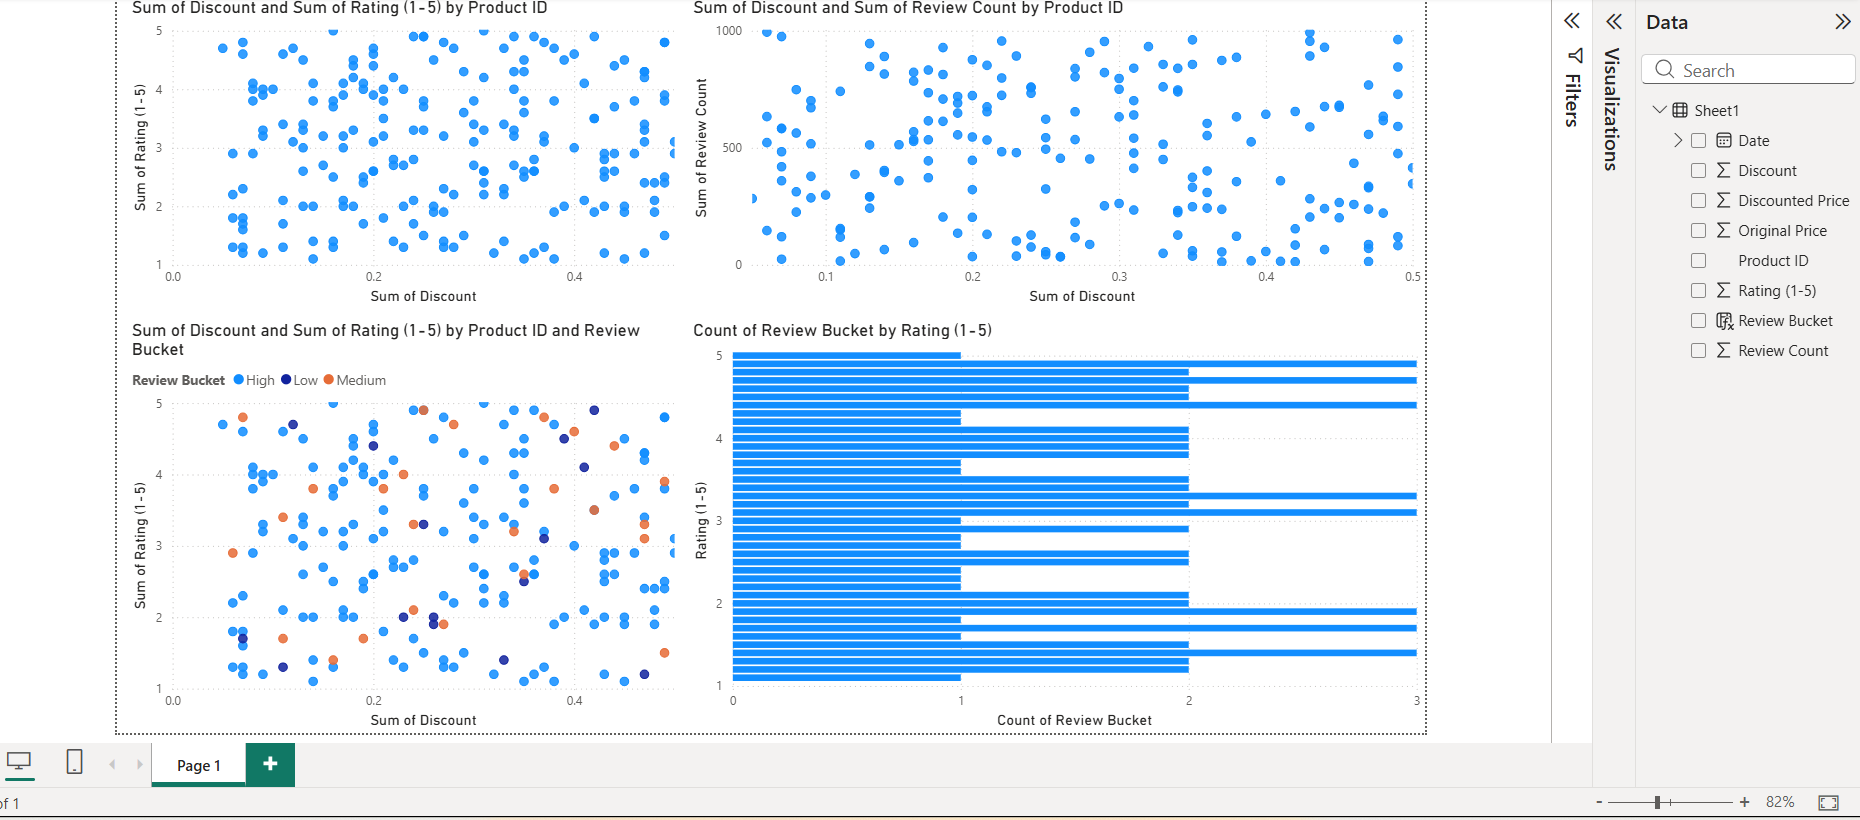

The page's visual inventory and layout, read from the dashboard file:
{"tool":"powerbi","page":{"name":"Page 1","canvas":[1280,720],"ordinal":0},"visuals":[{"type":"scatterChart","fields":{"X":["Sum(Sheet1.Discount)"],"Y":["Sum(Sheet1.Rating (1-5))"],"Category":["Sheet1.Product ID"]},"box":[9.6,0,548.9,306],"z":0},{"type":"scatterChart","fields":{"X":["Sum(Sheet1.Discount)"],"Y":["Sum(Sheet1.Review Count)"],"Category":["Sheet1.Product ID"]},"box":[558.5,0,721.8,306],"z":1},{"type":"scatterChart","fields":{"X":["Sum(Sheet1.Discount)"],"Y":["Sum(Sheet1.Rating (1-5))"],"Series":["Sheet1.Review Bucket"],"Category":["Sheet1.Product ID"]},"box":[9.6,315.6,548.9,404.8],"z":2},{"type":"barChart","fields":{"Y":["Count(Sheet1.Review Bucket)"],"Category":["Sheet1.Rating (1-5)"]},"box":[558.5,315.6,721.8,404.8],"z":3}]}

Visuals, with their boxes on the page's 1280x720 design canvas (x1, y1, x2, y2). These are canvas units, not pixel positions in the 1860x820 screenshot, which may show the page scaled, cropped or inside an application window:
scatterChart - Sum(Sheet1.Discount) x Sum(Sheet1.Rating (1-5)): BBox(10, 0, 558, 306)
scatterChart - Sum(Sheet1.Discount) x Sum(Sheet1.Review Count): BBox(558, 0, 1280, 306)
scatterChart - Sum(Sheet1.Discount) x Sum(Sheet1.Rating (1-5)): BBox(10, 316, 558, 720)
barChart - Count(Sheet1.Review Bucket) x Sheet1.Rating (1-5): BBox(558, 316, 1280, 720)
